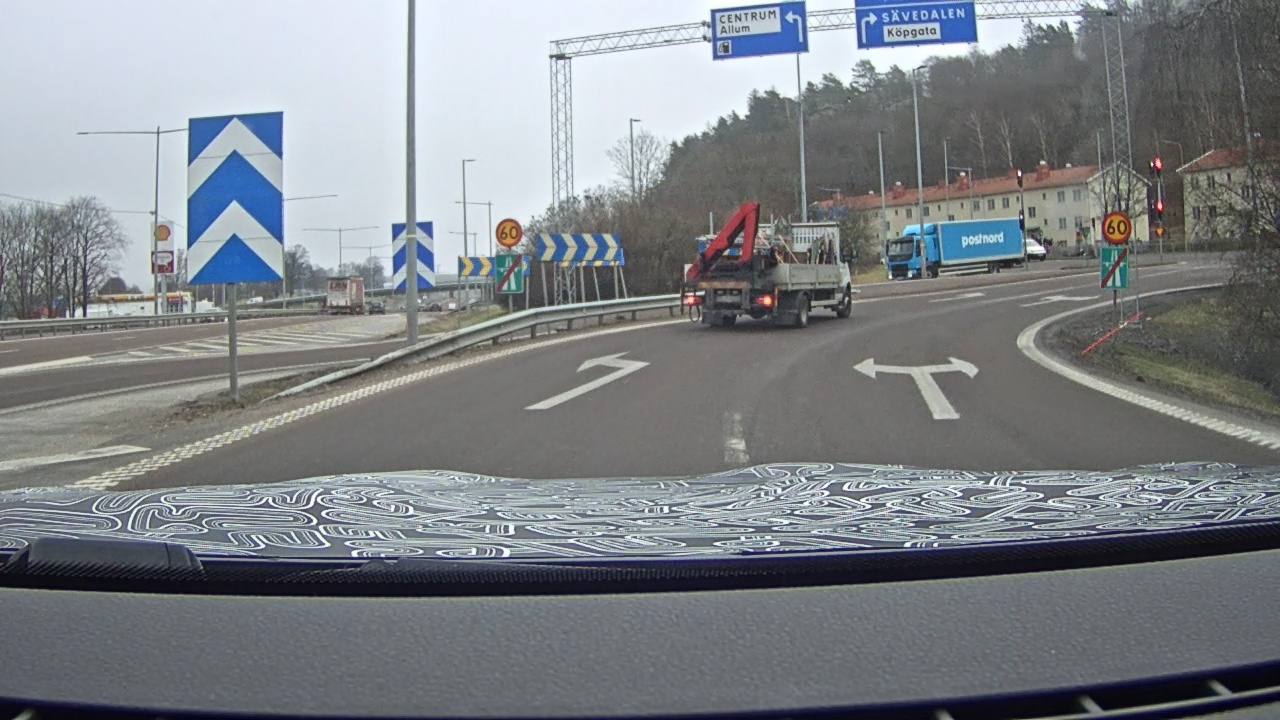Regular_End_Of_Motorway: (493, 253, 524, 295)
